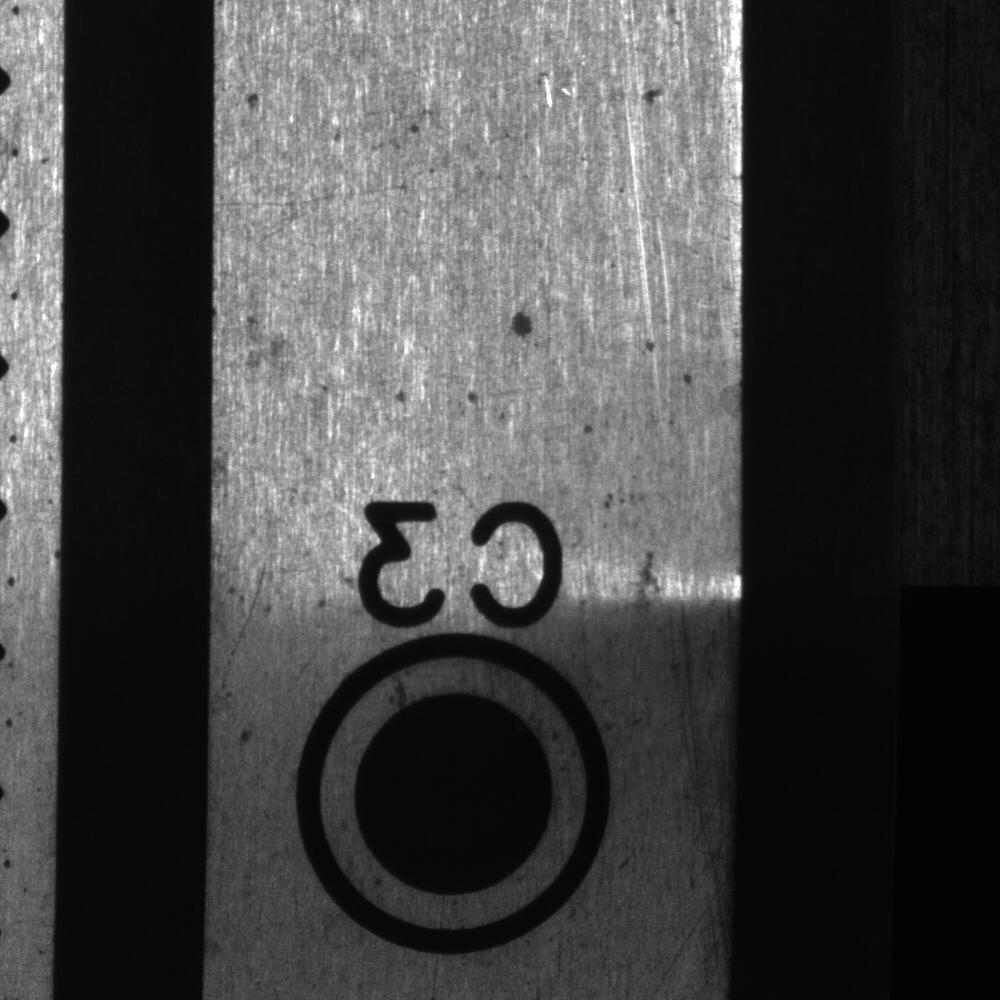Etching: (210, 302, 296, 376), (460, 378, 511, 426), (631, 542, 662, 617), (633, 76, 676, 123), (400, 96, 443, 142), (502, 304, 540, 346), (240, 83, 273, 118), (676, 360, 705, 393), (386, 381, 413, 413), (574, 420, 608, 443), (638, 330, 662, 359)
Scar: (668, 596, 732, 983), (218, 169, 414, 226), (216, 555, 275, 697)
